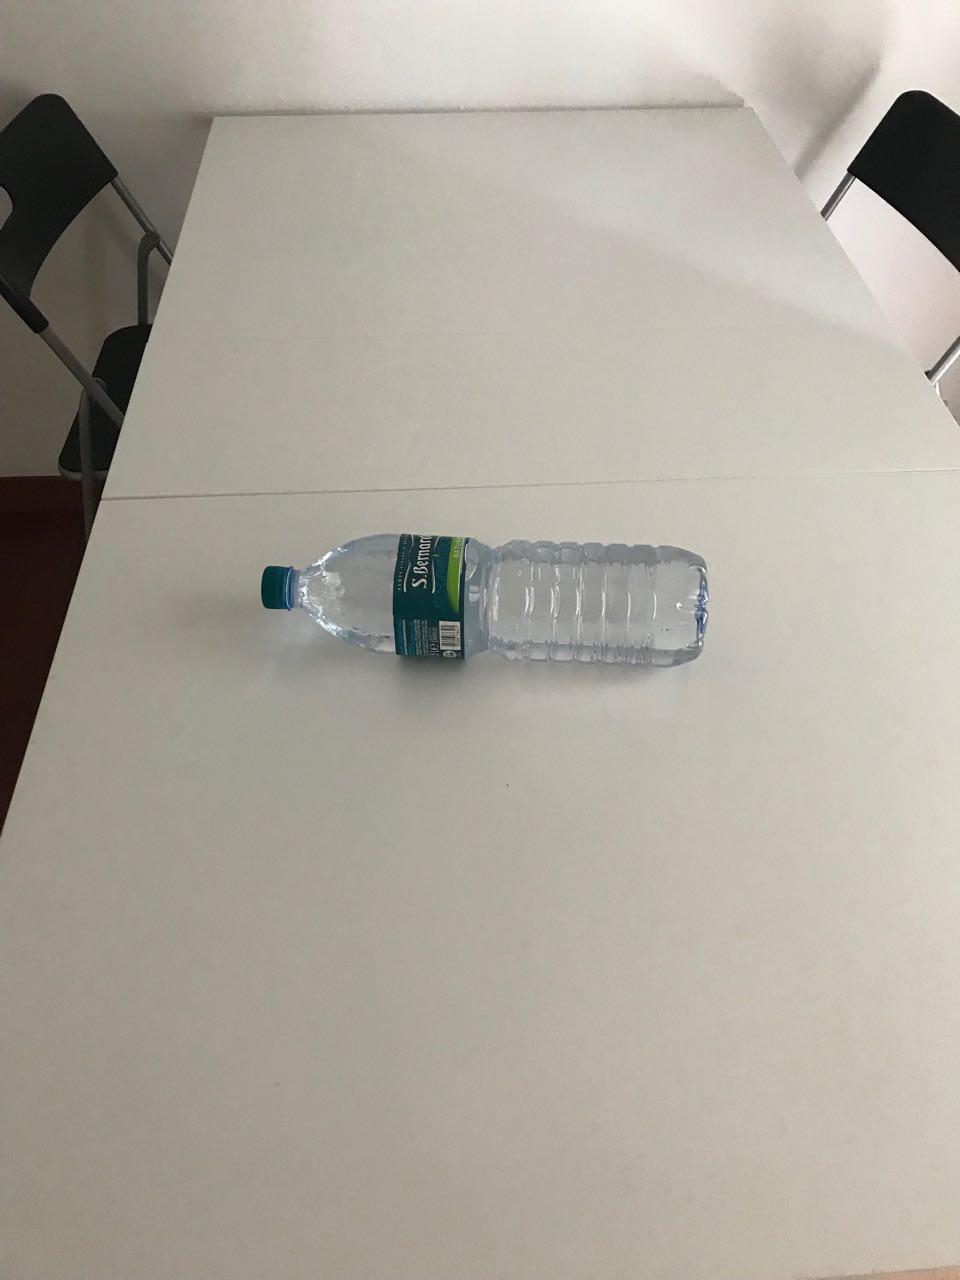san_bernardo: (261, 534, 710, 667)
